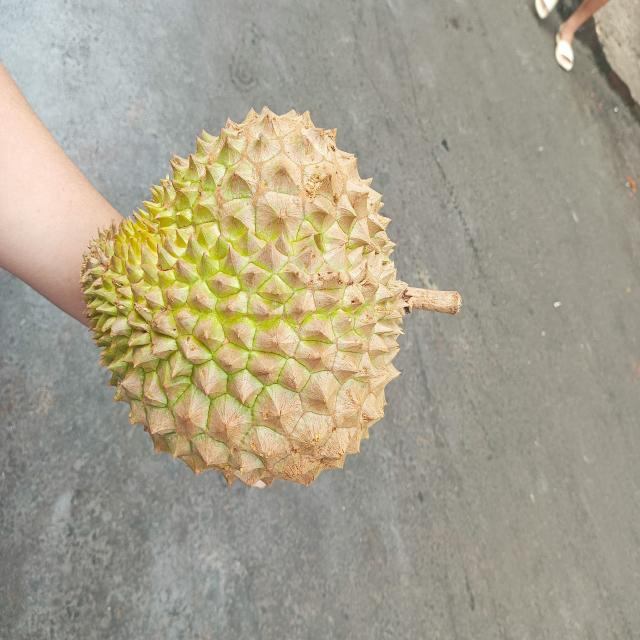mature: (76, 103, 406, 488)
